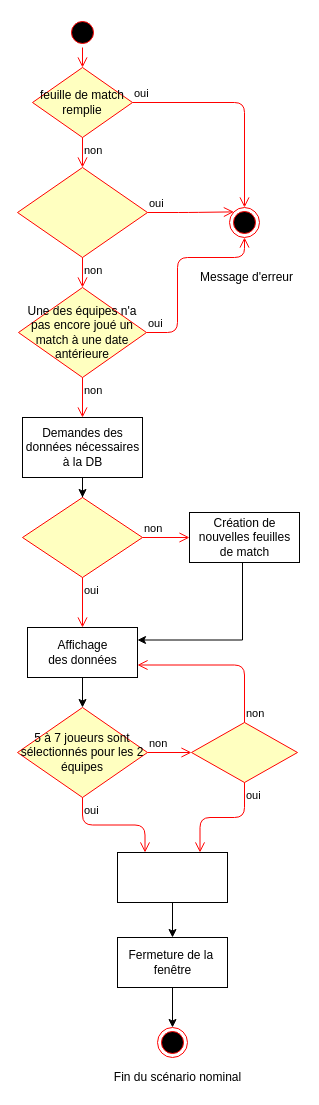
Some shapes in this 319 by 1105 pixel diagram are drawn without their labels. Each missing label, with the centre of its shape:
"La sélection est confirmée" goes at pixel 244 752.
"Les feuilles de matchs ont déjà été créées" goes at pixel 82 537.
"Sauvegarde des feuilles" goes at pixel 172 877.
"Une des équipes a déjà joué un match à une date postérieure" goes at pixel 82 212.
